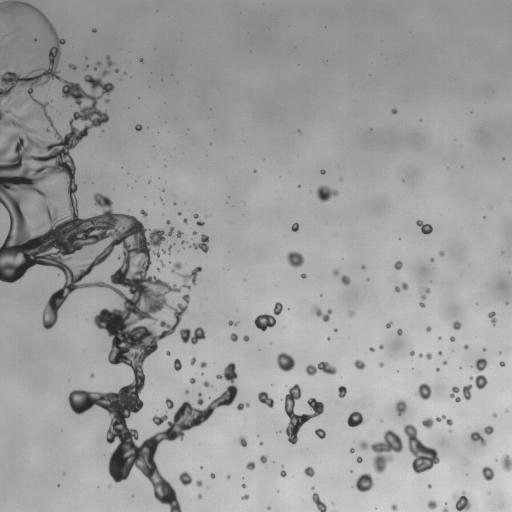droplet: (357, 428, 403, 474), (403, 423, 440, 473), (468, 358, 487, 389), (178, 326, 206, 344), (351, 472, 375, 492), (276, 352, 296, 372), (188, 234, 209, 253), (452, 490, 471, 511), (310, 304, 332, 322), (316, 185, 339, 202), (286, 251, 305, 268), (413, 383, 432, 400), (347, 410, 366, 427), (257, 391, 274, 408), (416, 220, 432, 235), (470, 431, 486, 446), (395, 399, 407, 416), (500, 454, 511, 472), (481, 466, 494, 481), (179, 471, 192, 486), (449, 385, 460, 402), (462, 384, 473, 400), (394, 282, 409, 292), (487, 311, 497, 326), (303, 465, 315, 477), (314, 428, 326, 439), (236, 401, 250, 410), (340, 275, 351, 286), (426, 499, 437, 510), (14, 6, 25, 17), (32, 20, 43, 31), (42, 38, 53, 49), (55, 61, 66, 72), (324, 178, 335, 189), (110, 202, 121, 213), (93, 204, 104, 215), (171, 217, 182, 228), (142, 219, 153, 230), (29, 263, 40, 274), (394, 270, 405, 281), (53, 277, 64, 288), (406, 285, 417, 296), (65, 291, 76, 302), (165, 292, 176, 303), (114, 300, 125, 311), (169, 331, 180, 342), (439, 339, 450, 350), (143, 355, 154, 366), (293, 360, 304, 371), (124, 373, 135, 384), (218, 378, 229, 389), (88, 384, 99, 395), (299, 390, 310, 401), (273, 399, 284, 410), (293, 404, 304, 415), (213, 405, 224, 416), (102, 411, 113, 422), (400, 413, 411, 424), (279, 415, 290, 426), (124, 416, 135, 427), (298, 423, 309, 434), (416, 430, 427, 441), (157, 439, 168, 450), (364, 449, 375, 460), (491, 462, 502, 473), (363, 463, 374, 474), (129, 466, 140, 477), (170, 479, 181, 490), (105, 55, 115, 67), (237, 435, 247, 447), (173, 358, 182, 371), (354, 359, 365, 369), (484, 425, 494, 435), (338, 385, 346, 397), (452, 321, 461, 330), (246, 461, 255, 470), (75, 59, 84, 68), (81, 82, 90, 91), (95, 101, 104, 110), (6, 124, 15, 133), (88, 126, 97, 135), (77, 210, 86, 219), (187, 217, 196, 226), (196, 225, 205, 234), (169, 253, 178, 262), (280, 257, 289, 266), (183, 264, 192, 273), (296, 264, 305, 273), (146, 267, 155, 276), (145, 353, 154, 362), (180, 357, 189, 366), (195, 375, 204, 384), (207, 375, 216, 384), (232, 377, 241, 386), (193, 381, 202, 390), (469, 386, 478, 395), (137, 390, 146, 399), (250, 396, 259, 405), (303, 405, 312, 414), (166, 408, 175, 417), (200, 419, 209, 428), (159, 421, 168, 430), (375, 433, 384, 442), (399, 433, 408, 442), (422, 438, 431, 447), (257, 446, 266, 455), (152, 453, 161, 462), (101, 456, 110, 465), (384, 461, 393, 470), (368, 468, 377, 477), (201, 474, 210, 483), (291, 222, 299, 232), (394, 260, 402, 270), (230, 332, 238, 342), (203, 380, 213, 388), (0, 12, 7, 23), (441, 502, 449, 511), (505, 356, 511, 367), (160, 505, 171, 511), (332, 268, 340, 276), (346, 310, 355, 317), (199, 361, 208, 368), (260, 454, 267, 463), (134, 124, 142, 131), (140, 209, 147, 217), (385, 321, 393, 328), (425, 352, 432, 360), (280, 469, 287, 477), (195, 479, 202, 487), (68, 63, 77, 69), (196, 220, 205, 226), (176, 230, 183, 237), (356, 456, 363, 463), (390, 504, 397, 511), (58, 44, 65, 51), (42, 53, 49, 60), (100, 62, 107, 69), (96, 65, 103, 72), (107, 65, 114, 72), (91, 72, 98, 79), (101, 76, 108, 83), (100, 121, 107, 128), (12, 126, 19, 133), (68, 148, 75, 155), (103, 190, 110, 197), (311, 191, 318, 198), (328, 195, 335, 202), (136, 214, 143, 221), (162, 225, 169, 232), (194, 236, 201, 243), (159, 241, 166, 248), (174, 242, 181, 249), (290, 245, 297, 252), (432, 252, 439, 259), (149, 254, 156, 261), (339, 268, 346, 275), (362, 269, 369, 276), (346, 271, 353, 278), (155, 272, 162, 279), (334, 275, 341, 282), (15, 277, 22, 284), (52, 284, 59, 291), (180, 287, 187, 294), (43, 293, 50, 300), (186, 302, 193, 309), (106, 304, 113, 311), (56, 307, 63, 314), (93, 308, 100, 315), (266, 308, 273, 315), (180, 313, 187, 320), (176, 322, 183, 329), (90, 323, 97, 330), (390, 324, 397, 331), (229, 325, 236, 332), (100, 328, 107, 335), (449, 328, 456, 335), (236, 332, 243, 339), (164, 334, 171, 341), (442, 334, 449, 341), (106, 335, 113, 342), (156, 339, 163, 346), (288, 350, 295, 357), (149, 351, 156, 358), (478, 351, 485, 358), (431, 352, 438, 359), (359, 355, 366, 362), (327, 360, 334, 367), (118, 361, 125, 368), (233, 366, 240, 373), (217, 367, 224, 374), (277, 368, 284, 375), (287, 368, 294, 375), (315, 368, 322, 375), (417, 377, 424, 384), (187, 383, 194, 390), (412, 383, 419, 390), (112, 386, 119, 393), (456, 390, 463, 397), (182, 394, 189, 401), (400, 394, 407, 401), (415, 395, 422, 402), (231, 398, 238, 405), (190, 401, 197, 408), (389, 401, 396, 408), (91, 403, 98, 410), (172, 403, 179, 410), (199, 403, 206, 410), (65, 405, 72, 412), (138, 407, 145, 414), (67, 408, 74, 415), (496, 408, 503, 415), (208, 413, 215, 420), (167, 414, 174, 421), (354, 424, 361, 431), (190, 425, 197, 432), (183, 428, 190, 435), (232, 433, 239, 440), (113, 437, 120, 444), (134, 439, 141, 446), (354, 449, 361, 456), (496, 452, 503, 459), (408, 453, 415, 460), (253, 458, 260, 465), (245, 468, 252, 475), (352, 472, 359, 479), (477, 473, 484, 480), (106, 475, 113, 482), (119, 478, 126, 485), (189, 480, 196, 487), (196, 486, 203, 493), (240, 487, 247, 494), (355, 489, 362, 496), (425, 494, 432, 501), (153, 498, 160, 505), (243, 334, 249, 342), (190, 357, 196, 365), (189, 377, 197, 383), (506, 468, 511, 477), (310, 506, 319, 511), (432, 506, 441, 511), (300, 273, 307, 279), (397, 327, 402, 335), (241, 494, 249, 499), (391, 108, 397, 114), (438, 250, 444, 256), (409, 350, 415, 356), (499, 361, 505, 367), (0, 139, 4, 148), (182, 218, 187, 225), (368, 347, 375, 352), (91, 28, 97, 33), (104, 98, 110, 103), (426, 326, 431, 332), (449, 336, 455, 341), (463, 344, 469, 349), (378, 362, 384, 367), (349, 448, 355, 453), (209, 473, 215, 478), (197, 493, 202, 499), (166, 219, 170, 226), (361, 264, 365, 271), (425, 507, 432, 511), (114, 68, 119, 73), (297, 129, 302, 134), (320, 169, 325, 174), (193, 213, 198, 218), (192, 230, 197, 235), (418, 353, 423, 358), (442, 360, 447, 365), (492, 412, 497, 417), (34, 3, 39, 8), (40, 8, 45, 13), (4, 12, 9, 17), (44, 12, 49, 17), (48, 17, 53, 22), (57, 34, 62, 39), (44, 49, 49, 54), (109, 56, 114, 61), (101, 58, 106, 63), (83, 59, 88, 64), (72, 60, 77, 65), (88, 64, 93, 69), (9, 67, 14, 72), (117, 70, 122, 75), (111, 80, 116, 85), (108, 90, 113, 95), (102, 93, 107, 98), (391, 103, 396, 108), (396, 108, 401, 113), (105, 110, 110, 115), (81, 135, 86, 140), (73, 160, 78, 165), (73, 173, 78, 178), (73, 190, 78, 195), (108, 195, 113, 200), (122, 209, 127, 214), (127, 210, 132, 215), (179, 214, 184, 219), (196, 216, 201, 221), (416, 225, 421, 230), (297, 226, 302, 231), (172, 229, 177, 234), (290, 230, 295, 235), (424, 233, 429, 238), (180, 234, 185, 239), (176, 237, 181, 242), (187, 239, 192, 244), (182, 242, 187, 247), (438, 245, 443, 250), (196, 247, 201, 252), (159, 253, 164, 258), (162, 258, 167, 263), (170, 258, 175, 263), (400, 258, 405, 263), (156, 262, 161, 267), (168, 263, 173, 268), (333, 263, 338, 268), (389, 263, 394, 268), (190, 264, 195, 269), (200, 264, 205, 269), (400, 265, 405, 270), (356, 266, 361, 271), (55, 267, 60, 272), (177, 268, 182, 273), (186, 269, 191, 274), (196, 270, 201, 275), (328, 271, 333, 276), (302, 277, 307, 282), (405, 279, 410, 284), (186, 280, 191, 285), (168, 281, 173, 286), (348, 281, 353, 286), (396, 282, 401, 287), (425, 282, 430, 287), (85, 286, 90, 291), (96, 286, 101, 291), (399, 288, 404, 293), (71, 289, 76, 294), (109, 289, 114, 294), (425, 292, 430, 297), (188, 296, 193, 301), (416, 297, 421, 302), (422, 299, 427, 304), (180, 300, 185, 305), (172, 303, 177, 308), (281, 306, 286, 311), (487, 307, 492, 312), (280, 309, 285, 314), (321, 309, 326, 314), (328, 313, 333, 318), (251, 314, 256, 319), (273, 314, 278, 319), (317, 315, 322, 320), (453, 316, 458, 321), (456, 317, 461, 322), (486, 317, 491, 322), (384, 318, 389, 323), (324, 320, 329, 325), (425, 321, 430, 326), (251, 323, 256, 328), (448, 323, 453, 328), (39, 324, 44, 329), (421, 324, 426, 329), (50, 325, 55, 330), (459, 325, 464, 330), (265, 326, 270, 331), (430, 326, 435, 331), (256, 327, 261, 332), (203, 331, 208, 336), (225, 334, 230, 339), (454, 336, 459, 341), (197, 338, 202, 343), (186, 339, 191, 344), (230, 340, 235, 345), (242, 340, 247, 345), (373, 344, 378, 349), (405, 348, 410, 353), (367, 350, 372, 355), (421, 350, 426, 355), (103, 351, 108, 356), (413, 352, 418, 357), (439, 355, 444, 360), (203, 357, 208, 362), (485, 357, 490, 362), (179, 358, 184, 363), (374, 359, 379, 364), (382, 359, 387, 364), (194, 360, 199, 365), (471, 360, 476, 365), (169, 361, 174, 366), (223, 361, 228, 366), (438, 363, 443, 368), (201, 366, 206, 371), (352, 366, 357, 371), (179, 367, 184, 372), (335, 367, 340, 372), (356, 368, 361, 373), (478, 370, 483, 375), (303, 372, 308, 377), (472, 373, 477, 378), (308, 374, 313, 379), (185, 375, 190, 380), (485, 376, 490, 381), (143, 378, 148, 383), (470, 379, 475, 384), (338, 381, 343, 386), (426, 381, 431, 386), (463, 381, 468, 386), (288, 382, 293, 387), (298, 383, 303, 388), (483, 384, 488, 389), (75, 385, 80, 390), (78, 385, 83, 390), (345, 386, 350, 391), (429, 386, 434, 391), (258, 387, 263, 392), (262, 387, 267, 392), (447, 388, 452, 393), (284, 389, 289, 394), (334, 389, 339, 394), (64, 392, 69, 397), (453, 392, 458, 397), (267, 393, 272, 398), (280, 393, 285, 398), (200, 394, 205, 399), (253, 394, 258, 399), (169, 395, 174, 400), (315, 396, 320, 401), (427, 396, 432, 401), (421, 398, 426, 403), (404, 399, 409, 404), (272, 401, 277, 406), (261, 402, 266, 407), (242, 405, 247, 410), (322, 405, 327, 410), (491, 407, 496, 412), (237, 409, 242, 414), (393, 410, 398, 415), (487, 410, 492, 415), (129, 411, 134, 416), (400, 411, 405, 416), (157, 412, 162, 417), (436, 412, 441, 417), (317, 413, 322, 418), (361, 413, 366, 418), (445, 414, 450, 419), (343, 415, 348, 420), (420, 415, 425, 420), (430, 415, 435, 420), (440, 418, 445, 423), (451, 418, 456, 423), (483, 421, 488, 426), (488, 421, 493, 426), (444, 423, 449, 428), (449, 424, 454, 429), (321, 425, 326, 430), (492, 425, 497, 430), (470, 427, 475, 432), (479, 431, 484, 436), (283, 434, 288, 439), (313, 434, 318, 439), (466, 435, 471, 440), (175, 436, 180, 441), (257, 436, 262, 441), (245, 439, 250, 444), (475, 439, 480, 444), (236, 442, 241, 447), (436, 452, 441, 457), (266, 456, 271, 461), (246, 457, 251, 462), (481, 462, 486, 467), (302, 463, 307, 468), (432, 463, 437, 468), (311, 464, 316, 469), (408, 465, 413, 470), (177, 469, 182, 474), (423, 469, 428, 474), (312, 473, 317, 478), (304, 474, 309, 479), (143, 476, 148, 481), (490, 477, 495, 482), (486, 479, 491, 484), (351, 481, 356, 486), (185, 483, 190, 488), (313, 487, 318, 492), (308, 489, 313, 494), (361, 490, 366, 495), (457, 491, 462, 496), (149, 492, 154, 497), (464, 492, 469, 497), (201, 493, 206, 498), (318, 496, 323, 501), (242, 498, 247, 503), (392, 499, 397, 504), (438, 350, 442, 356), (0, 53, 3, 60), (0, 239, 3, 246), (0, 279, 3, 286), (161, 249, 165, 254), (430, 257, 434, 262), (156, 267, 160, 272), (379, 344, 383, 349), (166, 350, 170, 355), (90, 373, 94, 378), (185, 389, 189, 394), (226, 474, 230, 479), (241, 483, 246, 487), (275, 430, 281, 433), (139, 58, 143, 62), (339, 177, 343, 181), (297, 184, 301, 188), (505, 301, 509, 305), (333, 328, 337, 332), (326, 336, 330, 340), (482, 347, 486, 351), (504, 409, 508, 413), (379, 418, 383, 422), (259, 441, 263, 445), (349, 469, 353, 473), (427, 484, 431, 488), (276, 489, 280, 493), (487, 491, 491, 495), (331, 501, 335, 505), (176, 212, 181, 215), (436, 367, 439, 372), (108, 483, 111, 488), (508, 301, 511, 306), (508, 408, 511, 413), (325, 508, 330, 511), (388, 508, 393, 511), (460, 508, 465, 511), (253, 169, 257, 172), (148, 179, 151, 183), (162, 188, 165, 192), (172, 202, 176, 205), (117, 255, 120, 259), (366, 277, 369, 281), (319, 293, 322, 297), (448, 429, 452, 432), (494, 458, 498, 461), (57, 483, 60, 487), (267, 506, 270, 510), (21, 0, 26, 2), (0, 41, 2, 46), (0, 202, 2, 207), (123, 71, 126, 74), (469, 110, 472, 113), (101, 129, 104, 132), (209, 142, 212, 145), (502, 157, 505, 160), (227, 195, 230, 198), (242, 213, 245, 216), (398, 237, 401, 240), (508, 270, 511, 273), (243, 278, 246, 281), (438, 336, 441, 339), (498, 351, 501, 354), (459, 366, 462, 369), (201, 372, 204, 375), (256, 434, 259, 437), (200, 466, 203, 469), (62, 472, 65, 475), (131, 494, 134, 497), (92, 25, 95, 28), (95, 26, 98, 29), (88, 28, 91, 31), (91, 31, 94, 34), (94, 31, 97, 34), (32, 34, 35, 37), (36, 35, 39, 38), (31, 39, 34, 42), (35, 40, 38, 43), (107, 52, 110, 55), (139, 54, 142, 57), (136, 58, 139, 61), (142, 59, 145, 62), (138, 61, 141, 64), (82, 64, 85, 67), (108, 100, 111, 103), (388, 110, 391, 113), (392, 113, 395, 116), (132, 123, 135, 126), (369, 124, 372, 127), (299, 128, 302, 131), (134, 129, 137, 132), (139, 129, 142, 132), (296, 131, 299, 134), (501, 153, 504, 156), (504, 156, 507, 159), (498, 157, 501, 160), (502, 159, 505, 162), (253, 166, 256, 169), (319, 166, 322, 169), (460, 167, 463, 170), (249, 169, 252, 172), (317, 170, 320, 173), (324, 171, 327, 174), (253, 172, 256, 175), (319, 173, 322, 176), (134, 176, 137, 179), (159, 176, 162, 179), (144, 180, 147, 183), (149, 181, 152, 184), (294, 183, 297, 186), (76, 185, 79, 188), (299, 186, 302, 189), (159, 187, 162, 190), (164, 188, 167, 191), (160, 191, 163, 194), (143, 192, 146, 195), (140, 195, 143, 198), (160, 195, 163, 198), (173, 198, 176, 201), (227, 198, 230, 201), (162, 199, 165, 202), (144, 209, 147, 212), (179, 209, 182, 212), (195, 210, 198, 213), (482, 212, 485, 215), (6, 215, 9, 218), (485, 215, 488, 218), (482, 218, 485, 221), (7, 220, 10, 223), (289, 222, 292, 225), (431, 225, 434, 228), (6, 226, 9, 229), (288, 226, 291, 229), (179, 228, 182, 231), (189, 231, 192, 234), (395, 235, 398, 238), (400, 236, 403, 239), (208, 237, 211, 240), (397, 239, 400, 242), (190, 245, 193, 248), (170, 247, 173, 250), (165, 249, 168, 252), (159, 250, 162, 253), (443, 250, 446, 253), (427, 256, 430, 259), (427, 259, 430, 262), (431, 261, 434, 264), (364, 263, 367, 266), (358, 264, 361, 267), (364, 267, 367, 270), (392, 267, 395, 270), (305, 273, 308, 276), (367, 274, 370, 277), (300, 277, 303, 280), (369, 278, 372, 281), (391, 287, 394, 290), (429, 288, 432, 291), (319, 290, 322, 293), (394, 291, 397, 294), (322, 293, 325, 296), (316, 294, 319, 297), (319, 296, 322, 299), (276, 299, 279, 302), (279, 300, 282, 303), (271, 304, 274, 307), (417, 305, 420, 308), (494, 310, 497, 313), (225, 319, 228, 322), (232, 319, 235, 322), (494, 321, 497, 324), (489, 322, 492, 325), (225, 323, 228, 326), (333, 325, 336, 328), (336, 326, 339, 329), (400, 326, 403, 329), (385, 327, 388, 330), (330, 328, 333, 331), (423, 329, 426, 332), (333, 331, 336, 334), (426, 331, 429, 334), (435, 334, 438, 337), (324, 335, 327, 338), (248, 336, 251, 339), (440, 336, 443, 339), (329, 337, 332, 340), (247, 339, 250, 342), (325, 339, 328, 342), (451, 340, 454, 343), (461, 342, 464, 345), (466, 342, 469, 345), (482, 344, 485, 347), (382, 346, 385, 349), (485, 347, 488, 350), (498, 347, 501, 350), (463, 348, 466, 351), (441, 351, 444, 354), (495, 351, 498, 354), (163, 352, 166, 355), (409, 355, 412, 358), (499, 358, 502, 361), (322, 359, 325, 362), (446, 361, 449, 364), (205, 363, 208, 366), (459, 363, 462, 366), (497, 364, 500, 367), (502, 365, 505, 368), (380, 366, 383, 369), (395, 366, 398, 369), (455, 366, 458, 369), (461, 366, 464, 369), (432, 367, 435, 370), (177, 369, 180, 372), (411, 369, 414, 372), (398, 370, 401, 373), (394, 371, 397, 374), (87, 372, 90, 375), (93, 374, 96, 377), (194, 377, 197, 380), (269, 380, 272, 383), (192, 382, 195, 385), (182, 388, 185, 391), (340, 396, 343, 399), (452, 396, 455, 399), (282, 398, 285, 401), (162, 399, 165, 402), (455, 401, 458, 404), (504, 412, 507, 415), (150, 414, 153, 417), (152, 422, 155, 425), (324, 430, 327, 433), (258, 432, 261, 435), (324, 434, 327, 437), (322, 437, 325, 440), (258, 444, 261, 447), (243, 446, 246, 449), (346, 448, 349, 451), (360, 455, 363, 458), (353, 457, 356, 460), (361, 458, 364, 461), (196, 465, 199, 468), (202, 466, 205, 469), (346, 469, 349, 472), (208, 470, 211, 473), (211, 470, 214, 473), (277, 471, 280, 474), (214, 473, 217, 476), (223, 474, 226, 477), (229, 475, 232, 478), (208, 476, 211, 479), (238, 476, 241, 479), (281, 476, 284, 479), (241, 480, 244, 483), (54, 482, 57, 485), (59, 484, 62, 487), (424, 484, 427, 487), (431, 484, 434, 487), (428, 487, 431, 490), (279, 489, 282, 492), (273, 490, 276, 493), (194, 495, 197, 498), (237, 496, 240, 499), (264, 504, 267, 507), (376, 505, 379, 508), (85, 56, 87, 59), (419, 119, 422, 121), (120, 166, 123, 168), (402, 179, 404, 182), (127, 209, 130, 211), (161, 213, 164, 215), (483, 216, 486, 218), (177, 250, 179, 253), (501, 251, 503, 254), (168, 261, 171, 263), (287, 308, 290, 310), (269, 342, 272, 344), (396, 370, 399, 372), (285, 384, 287, 387), (208, 396, 210, 399), (281, 465, 284, 467), (207, 486, 209, 489), (374, 507, 377, 509), (509, 268, 511, 271), (509, 272, 511, 275), (266, 509, 269, 511), (374, 509, 377, 511), (455, 509, 458, 511), (119, 78, 121, 80), (50, 99, 52, 101), (187, 128, 189, 130), (370, 128, 372, 130), (164, 165, 166, 167), (135, 180, 137, 182), (182, 247, 184, 249), (57, 273, 59, 275), (258, 349, 260, 351), (470, 365, 472, 367), (411, 367, 413, 369), (270, 384, 272, 386), (156, 409, 158, 411), (272, 461, 274, 463), (242, 477, 244, 479), (0, 0, 2, 2), (0, 124, 1, 127), (157, 132, 159, 133), (461, 166, 463, 167), (127, 172, 128, 174), (430, 280, 431, 282), (144, 196, 145, 197), (98, 486, 99, 487)
ligament: (254, 302, 283, 331), (152, 397, 175, 426), (422, 414, 453, 429), (304, 361, 337, 375), (310, 485, 327, 511), (418, 286, 430, 307), (167, 242, 175, 255), (197, 392, 204, 405), (93, 60, 102, 70), (227, 320, 239, 326), (27, 37, 40, 42), (84, 64, 89, 70), (181, 240, 188, 244), (159, 196, 162, 201), (332, 510, 338, 511), (163, 203, 164, 205)
